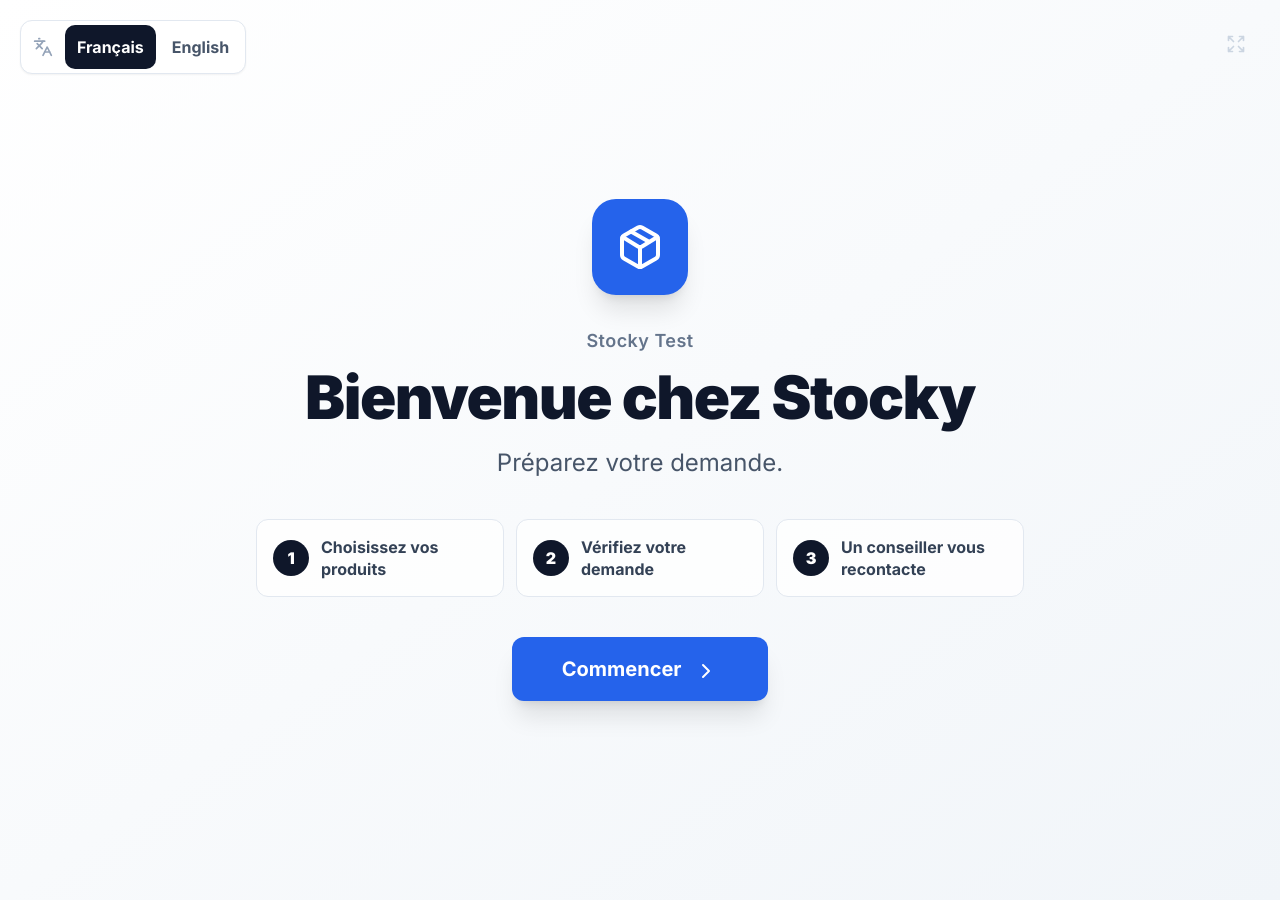
Test: KioskPage › counts down before clearing an idle session
The image size is (1280, 900).
Click the button "Commencer": point(640, 669) [512,637,768,701]
Wait 45000 ms
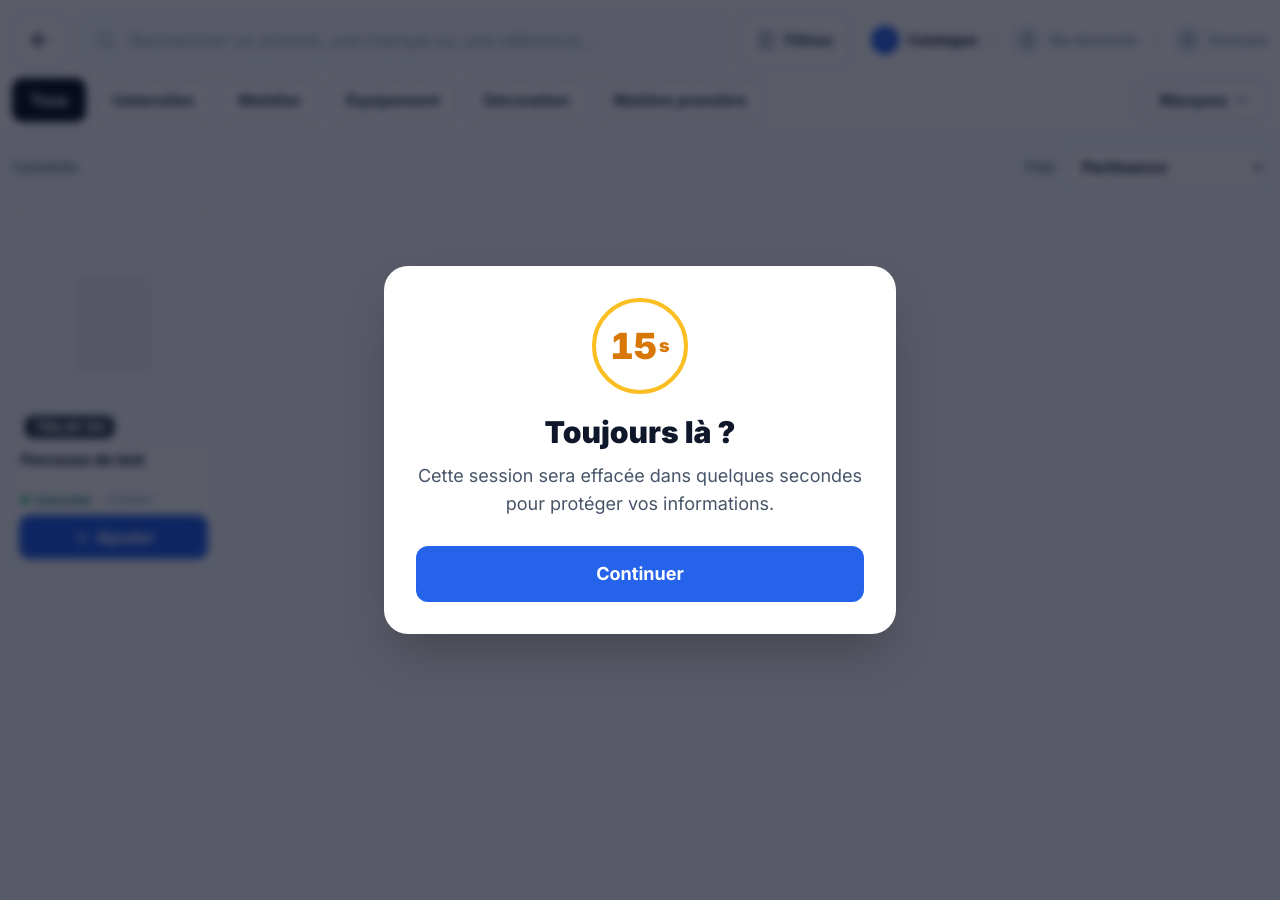
Now the heading "Perceuse de test" is shown, box [21,450,145,469]
Now the heading "Toujours là ?" is shown, box [544,414,736,450]
Now the text "15" is shown, box [610,324,657,368]
